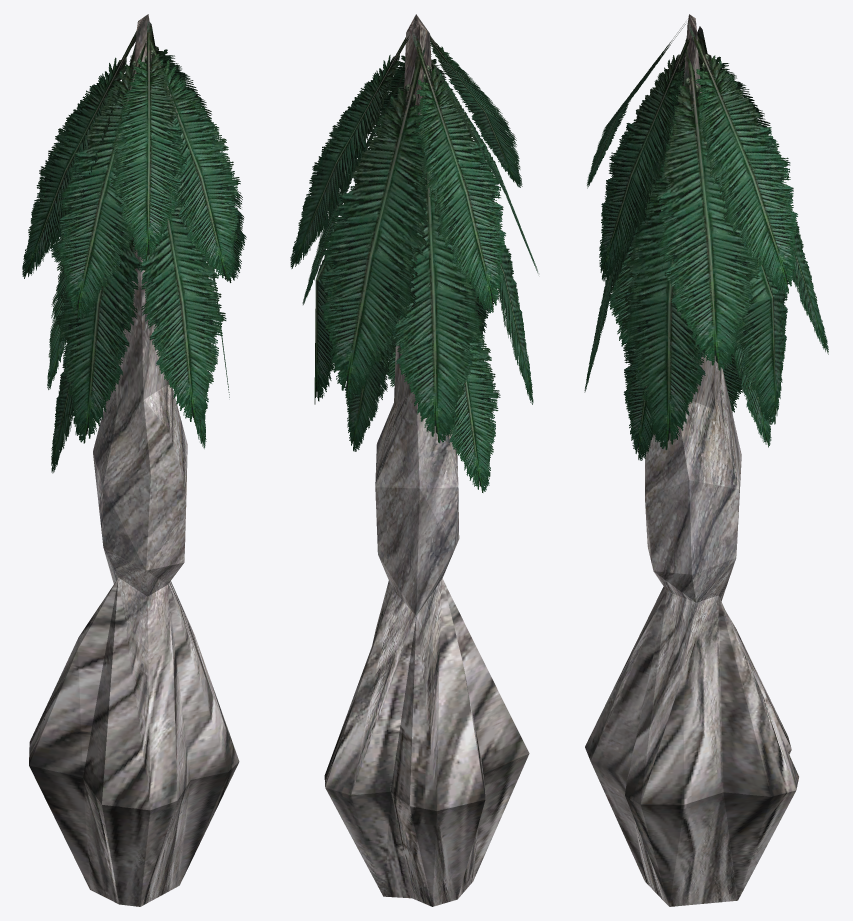
Rendered from decd_boffa_l1.fbx.
The picture shows the model from 3 angles, left to right: view 1: azimuth 30°, elevation 25°; view 2: azimuth 150°, elevation 25°; view 3: azimuth 270°, elevation 25°; orthographic projection.
Visible parts, largest first — view 1: mesh_node; view 2: mesh_node; view 3: mesh_node.
Part boxes in pixels (left/top/right/bottom): mesh_node: left=22, top=14, right=246, bottom=906; mesh_node: left=290, top=14, right=538, bottom=906; mesh_node: left=584, top=14, right=828, bottom=906.
Size of the model in its own units: 3.88 by 15.07 by 4.03.
